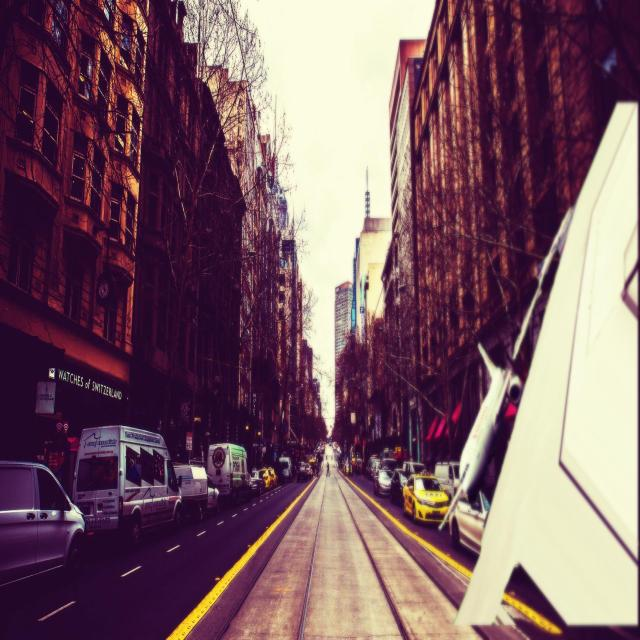airplane: (450, 99, 639, 638)
